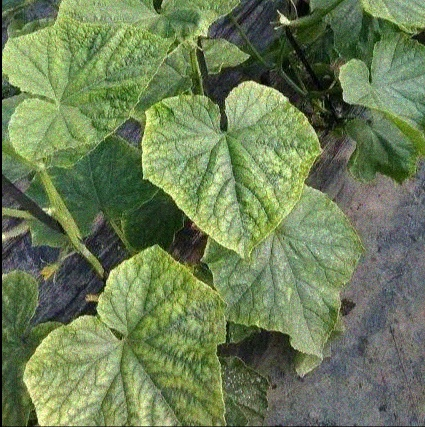cucumber_plant: (15, 3, 307, 244), (34, 246, 223, 426)
